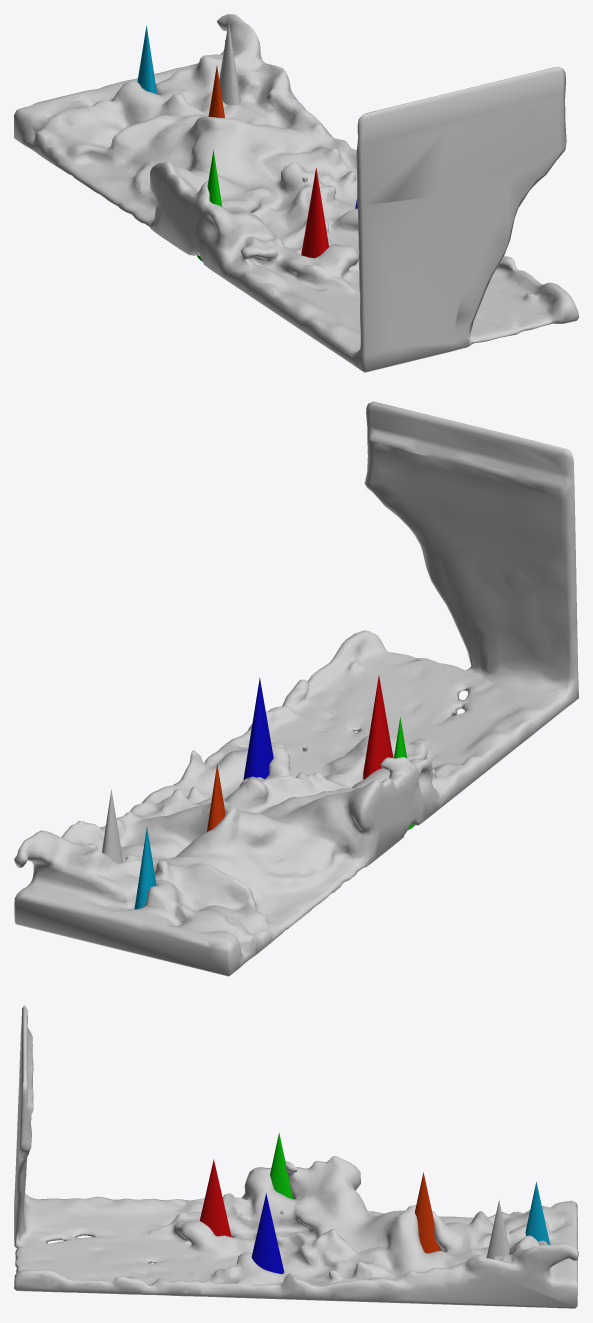
3 renders of one model, top to bottom at view 1: azimuth 30°, elevation 25°; view 2: azimuth 150°, elevation 25°; view 3: azimuth 270°, elevation 25°, orthographic. The views are drawn at different scales.
Parts seen in each view (by area): view 1: Liquid_Domain, 円錐.001, 円錐, 円錐.005, 円錐.003, 円錐.004; view 2: Liquid_Domain, 円錐.002, 円錐.001, 円錐.005, 円錐; view 3: Liquid_Domain, 円錐.002, 円錐.001, 円錐.004, 円錐.003, 円錐.005, 円錐.
Boxes of the visible parts, x1=… form: Liquid_Domain: x1=14, y1=14, x2=578, y2=372; 円錐.001: x1=301, y1=168, x2=328, y2=257; 円錐: x1=219, y1=22, x2=240, y2=104; 円錐.005: x1=137, y1=25, x2=156, y2=93; 円錐.003: x1=196, y1=150, x2=222, y2=261; 円錐.004: x1=208, y1=66, x2=224, y2=117; Liquid_Domain: x1=14, y1=401, x2=578, y2=976; 円錐.002: x1=243, y1=677, x2=273, y2=779; 円錐.001: x1=363, y1=675, x2=392, y2=779; 円錐.005: x1=134, y1=827, x2=156, y2=909; 円錐: x1=102, y1=789, x2=123, y2=863; Liquid_Domain: x1=14, y1=1005, x2=578, y2=1308; 円錐.002: x1=251, y1=1193, x2=284, y2=1273; 円錐.001: x1=199, y1=1159, x2=231, y2=1237; 円錐.004: x1=415, y1=1172, x2=440, y2=1253; 円錐.003: x1=270, y1=1132, x2=292, y2=1198; 円錐.005: x1=525, y1=1181, x2=549, y2=1244; 円錐: x1=486, y1=1199, x2=509, y2=1258.
Bounding box in the file's own units: 129 × 158 × 362.
